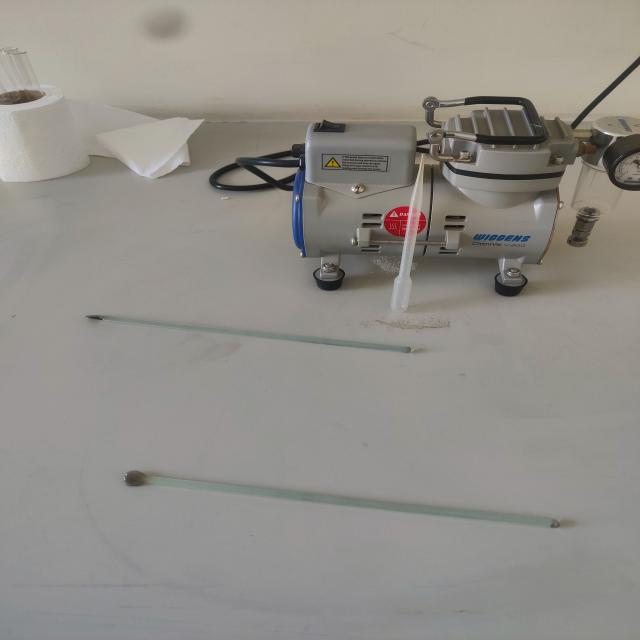Glass_Rod: (80, 447, 604, 569), (58, 285, 441, 399)
Pipette: (374, 152, 439, 334)
